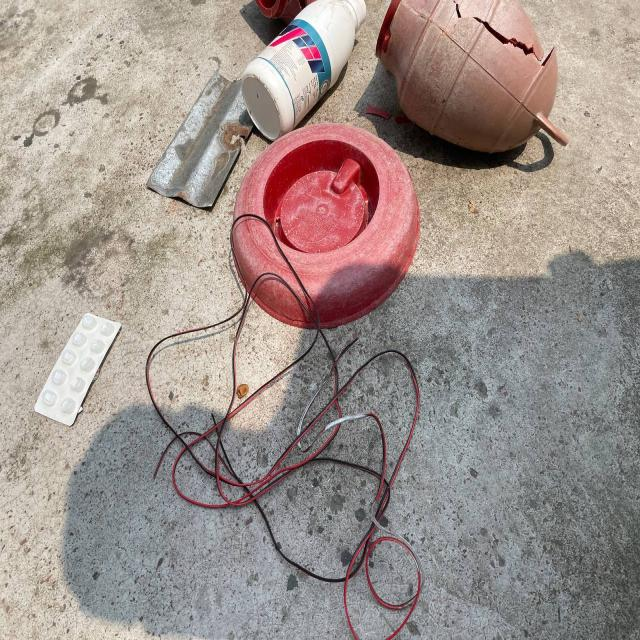Cable: (142, 316, 461, 640)
Medical Waste: (35, 302, 128, 462)
Metal: (144, 65, 234, 231)
Plastics: (242, 0, 572, 318)
